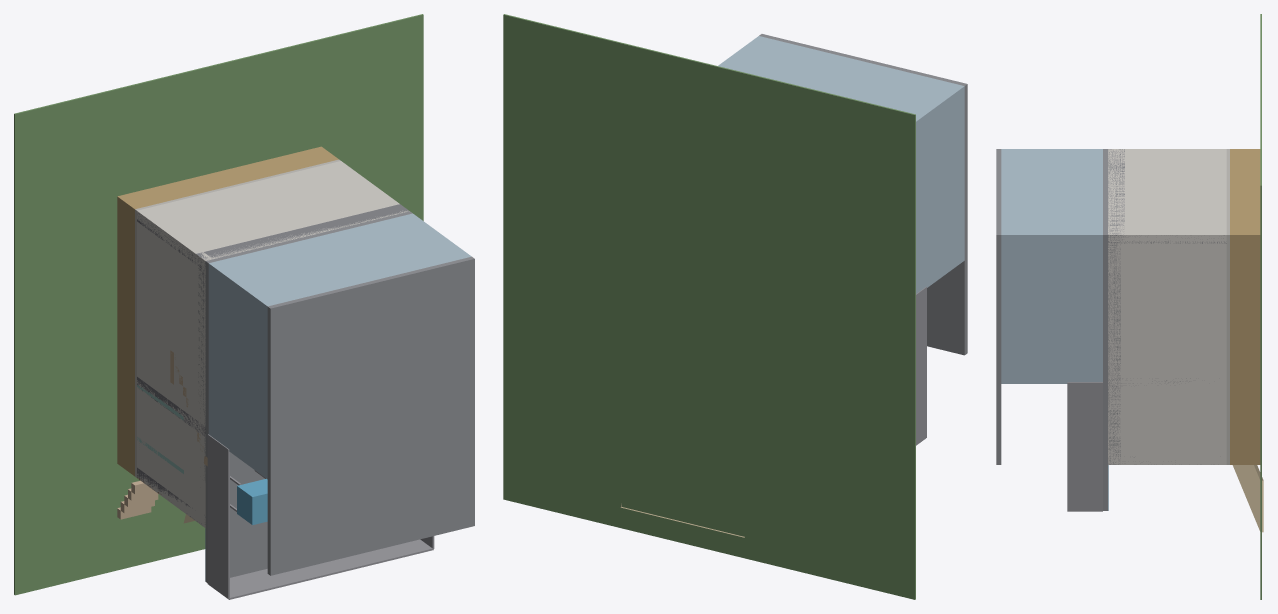
File: farmhouse-3d-model.glb
3 views of the same model, side by side, from view 1: azimuth 30°, elevation 25°; view 2: azimuth 150°, elevation 25°; view 3: azimuth 270°, elevation 25° (orthographic). The views are drawn at different scales.
Parts seen in each view (by area): view 1: world; view 2: world; view 3: world.
Part boxes in pixels (x1=…): world: x1=14, y1=14, x2=474, y2=599; world: x1=503, y1=14, x2=967, y2=599; world: x1=996, y1=14, x2=1263, y2=599.
Bounding box in the file's own units: 12.19 × 13.72 × 8.02.
